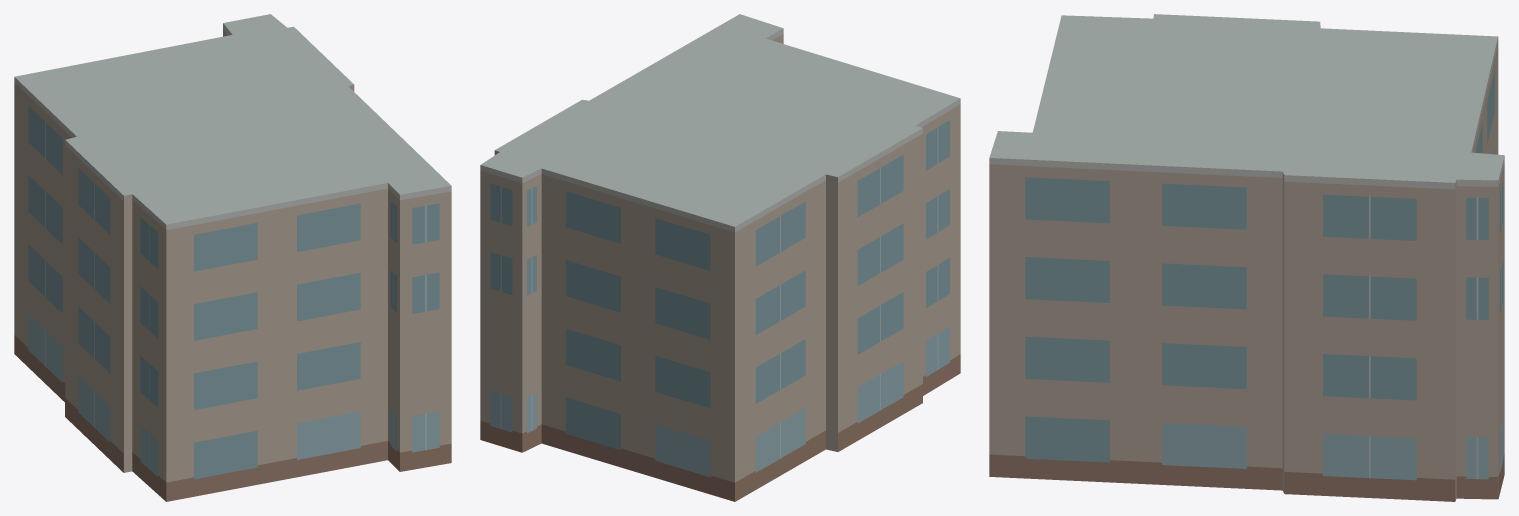
Rendered from survey-upis-32500958.glb.
3 renders of one model, left to right at view 1: azimuth 30°, elevation 25°; view 2: azimuth 150°, elevation 25°; view 3: azimuth 270°, elevation 25°, orthographic. The views are drawn at different scales.
Visible parts, largest first — view 1: survey-upis-32500958.tmp; view 2: survey-upis-32500958.tmp; view 3: survey-upis-32500958.tmp.
Boxes of the visible parts, x1=… form: survey-upis-32500958.tmp: x1=14, y1=14, x2=451, y2=501; survey-upis-32500958.tmp: x1=480, y1=14, x2=960, y2=501; survey-upis-32500958.tmp: x1=989, y1=14, x2=1504, y2=501.
Size of the model in its own units: 13.76 by 12.1 by 17.73.
